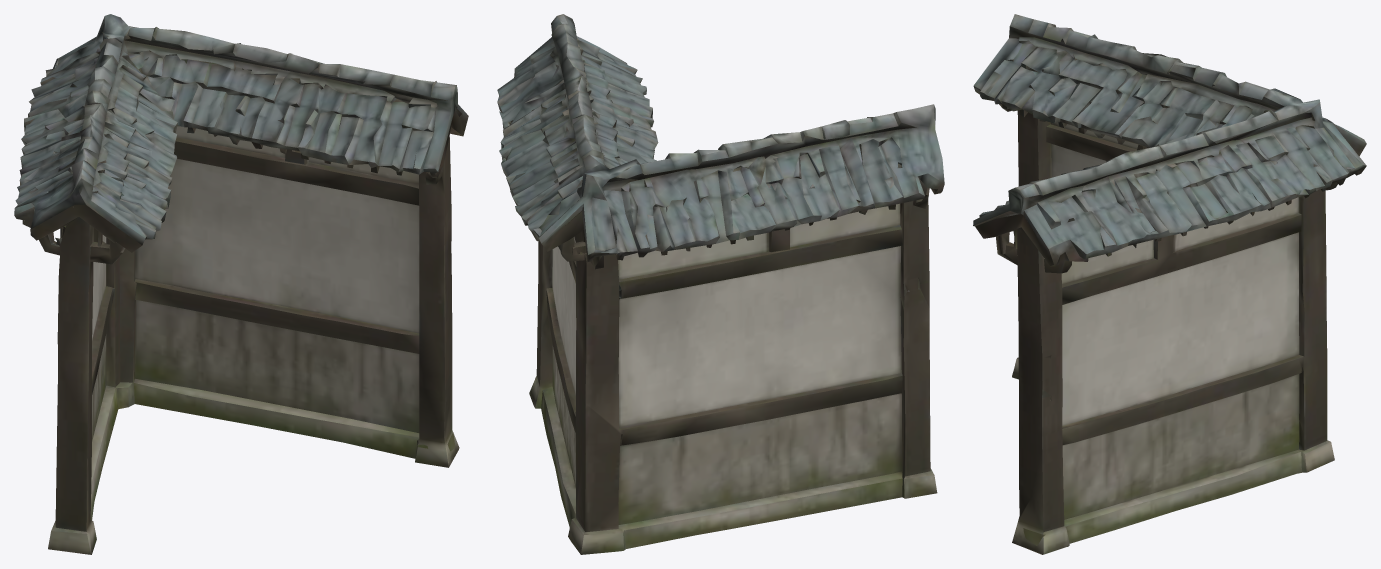
Rendered from ARCH-007.glb.
The picture shows the model from 3 angles, left to right: view 1: azimuth 30°, elevation 25°; view 2: azimuth 150°, elevation 25°; view 3: azimuth 270°, elevation 25°; orthographic projection. The views are drawn at different scales.
Parts seen in each view (by area): view 1: world; view 2: world; view 3: world.
Part boxes in pixels (x1=…): world: x1=14, y1=14, x2=468, y2=554; world: x1=497, y1=14, x2=944, y2=554; world: x1=973, y1=14, x2=1366, y2=554.
Size of the model in its own units: 3 by 2.5 by 2.47.
1 material, 1 textured.
